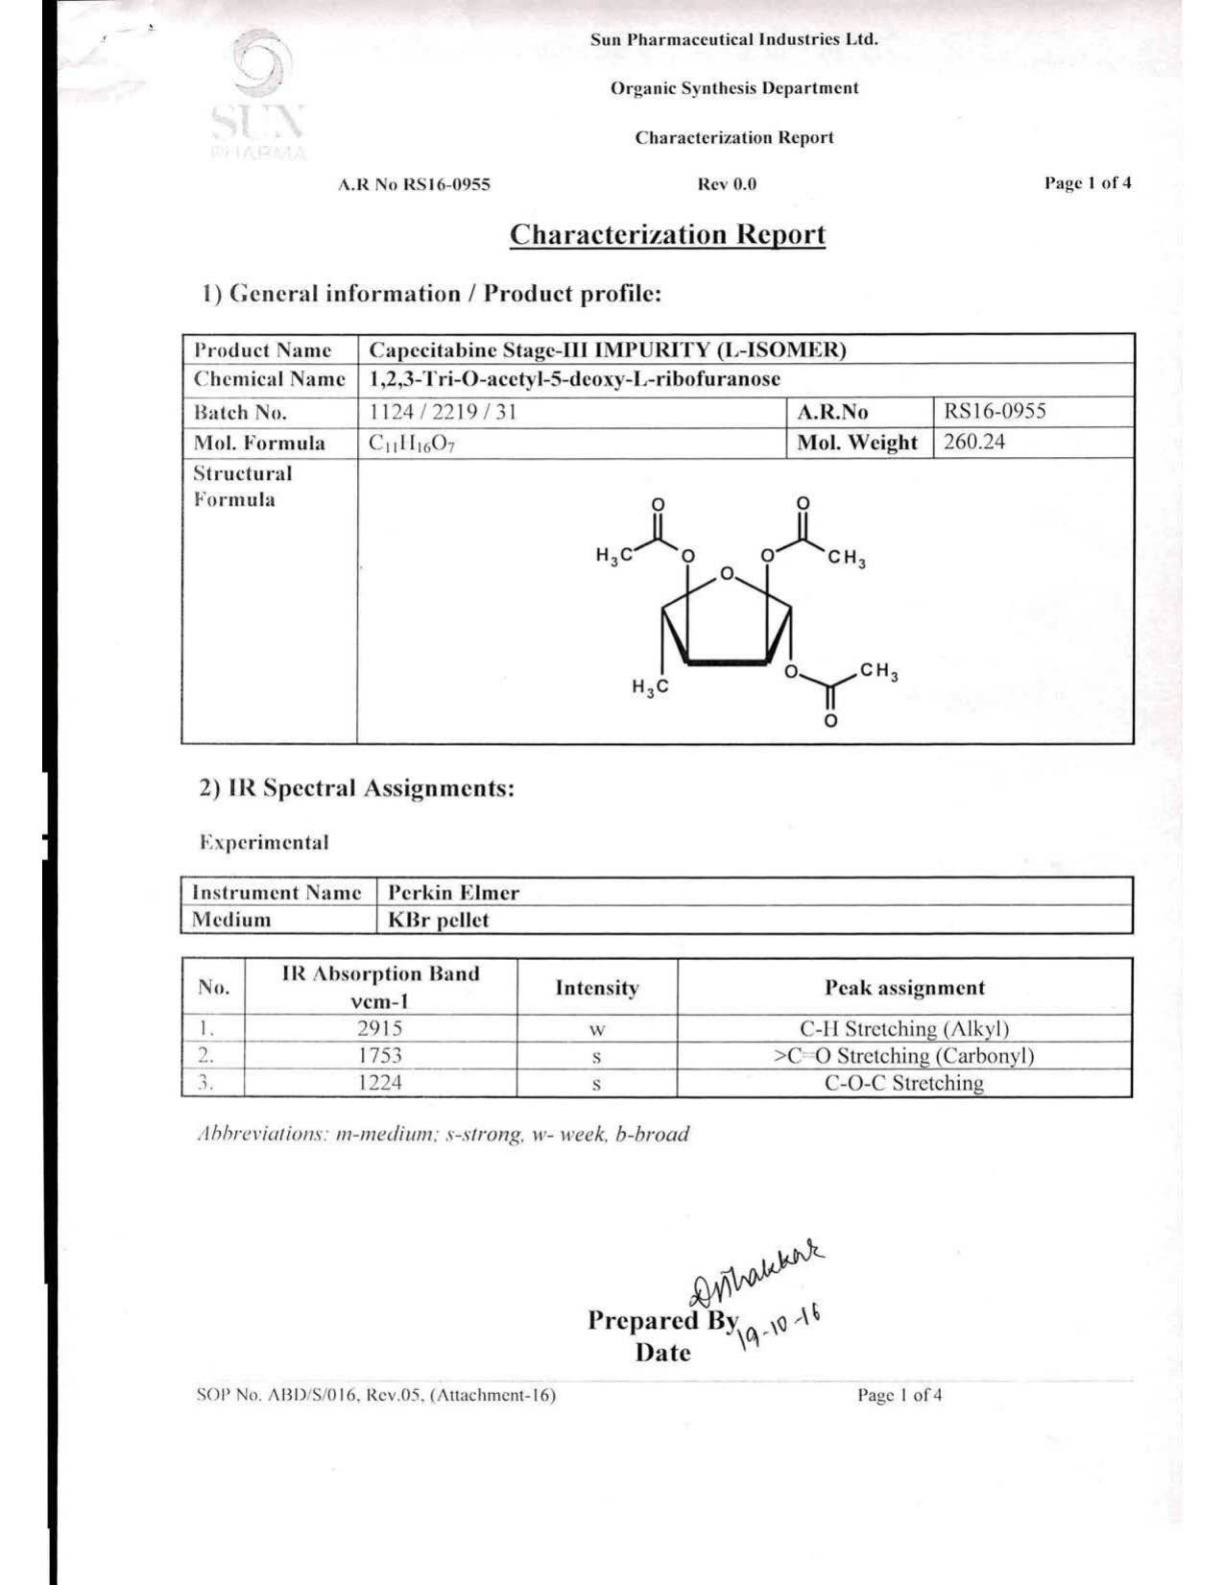full_lined: (181, 330, 1137, 746), (180, 955, 1134, 1100), (179, 874, 1135, 936)
